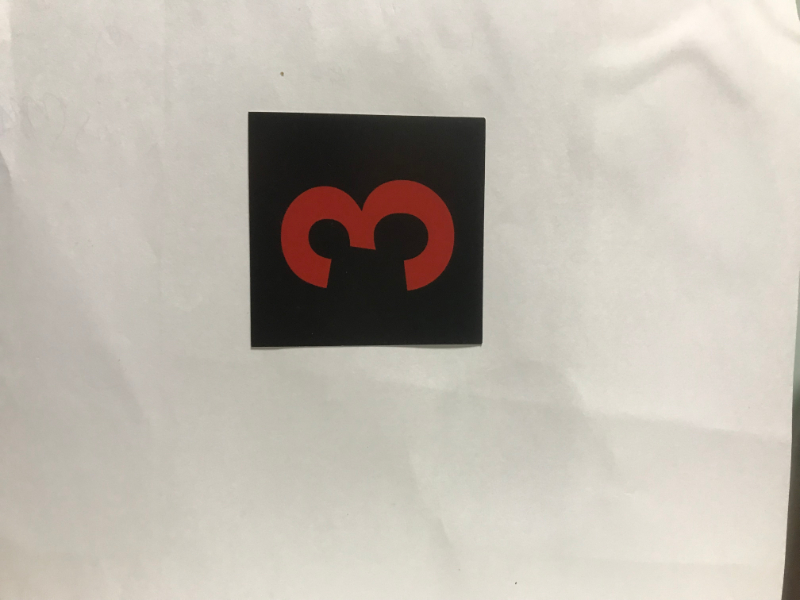Three-8: (255, 121, 481, 343)
